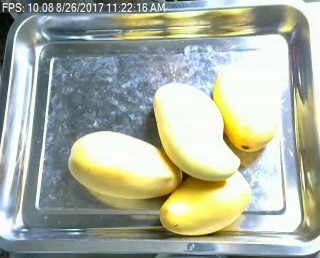Mango: (154, 83, 242, 179), (70, 130, 179, 198), (159, 166, 253, 234), (214, 65, 279, 153)
